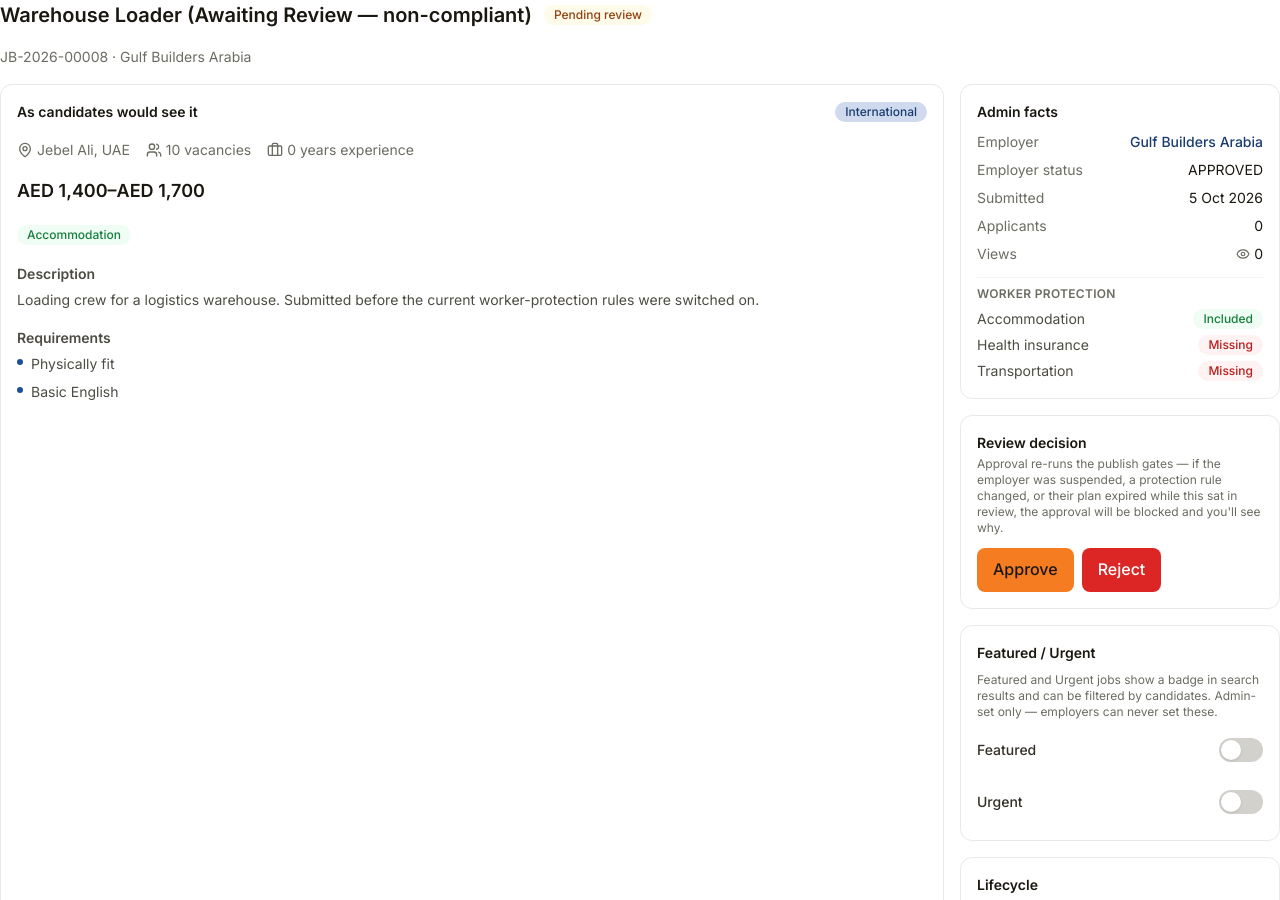
review resolution › reject: confirm is blocked without a reason, and the copy says the employer reads it
Expected: the heading "Warehouse Loader (Awaiting Review — non-compliant)" is shown, [0,0,532,30]
Click the button "Reject" at (1122, 570), box [1082,548,1161,592]
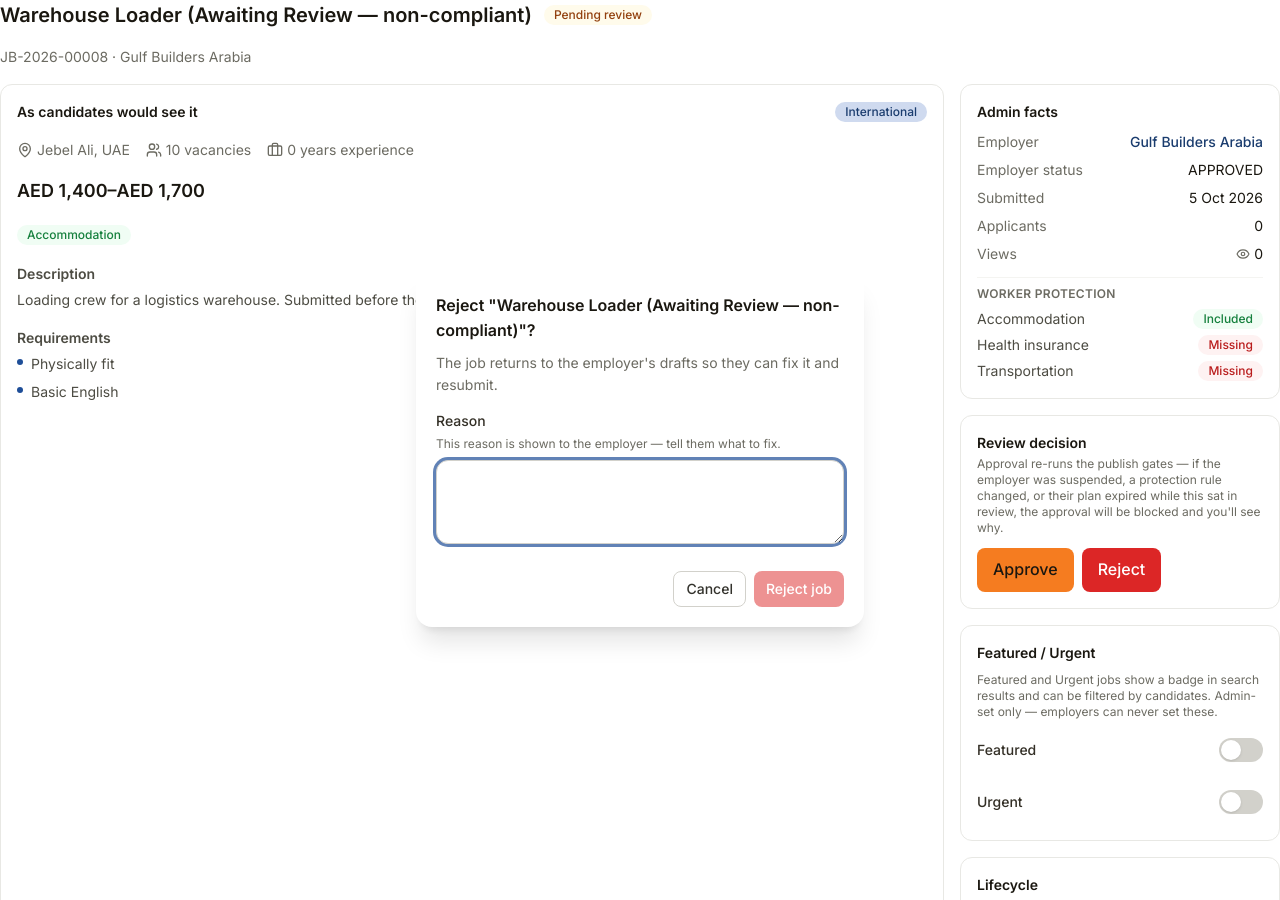
Expected: the button "Reject job" is disabled, [754,571,844,607]
Expected: the text "This reason is shown to the employer" is shown, [436,436,781,451]
Type "Add health insurance first." into the text box labelled "Reason" at (640, 502), box [436,460,844,544]
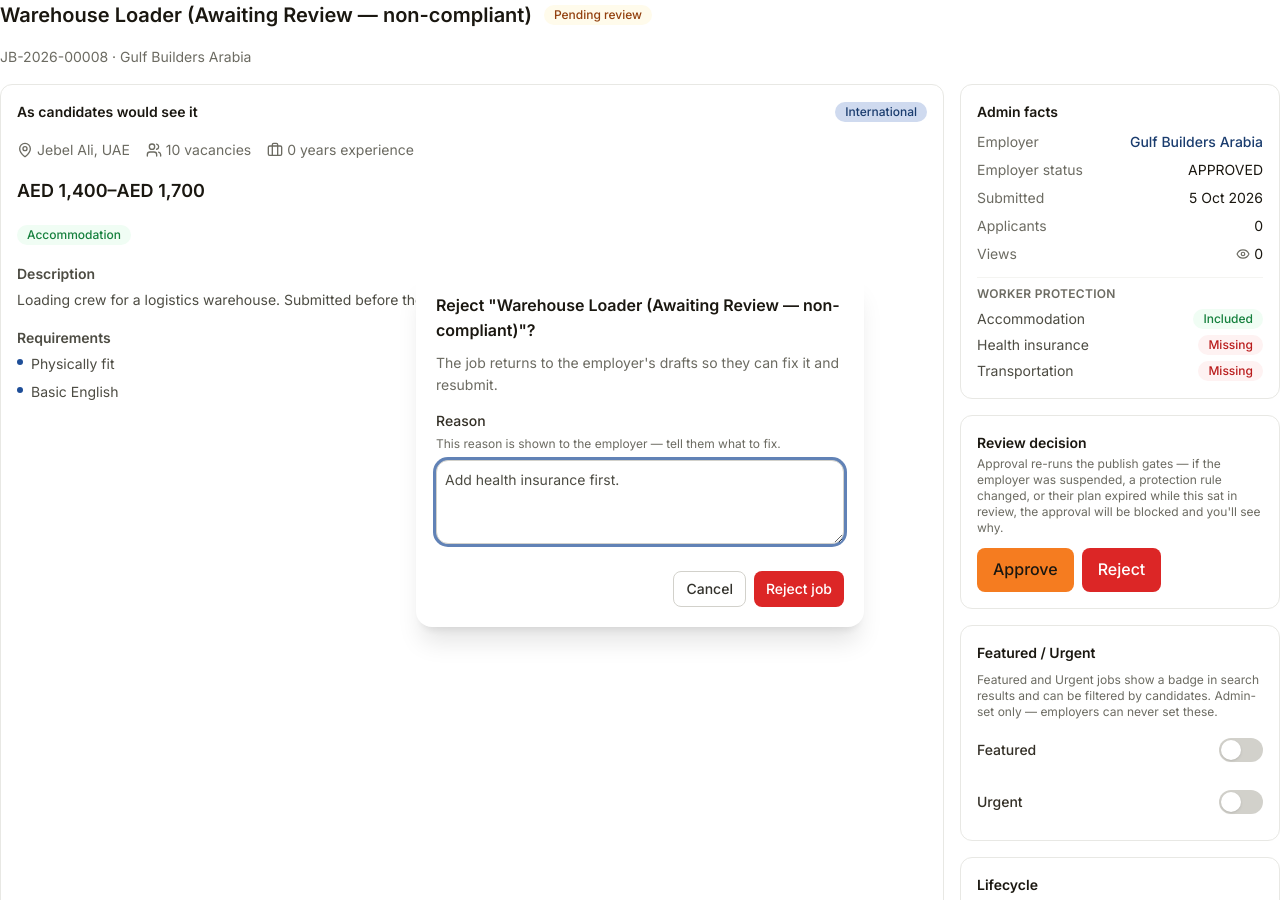
Expected: the button "Reject job" is enabled, [754,571,844,607]
